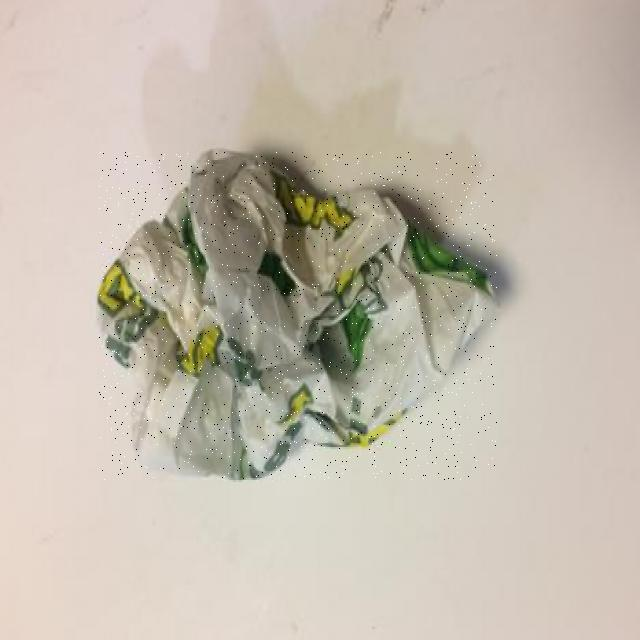paper: (99, 152, 497, 480)
